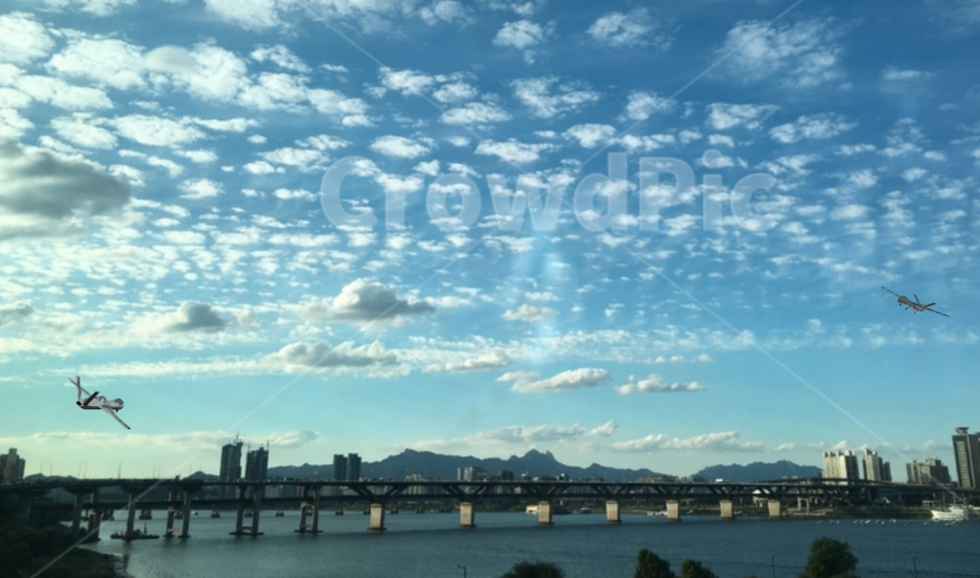military drone: (67, 375, 131, 430), (879, 285, 951, 318)
